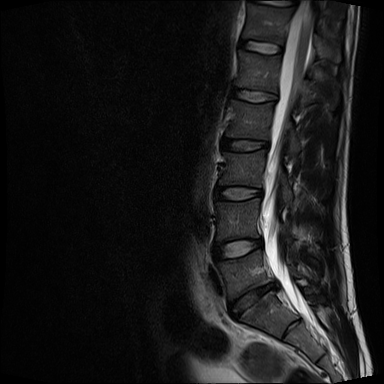Lumbar Disc Bulge (LDB): (221, 276, 285, 325)
Normal IVD: (208, 231, 269, 264), (227, 82, 280, 108), (209, 180, 267, 203), (214, 132, 273, 154), (237, 37, 285, 57)
Spinal Stenosis (SS): (270, 274, 285, 299)
